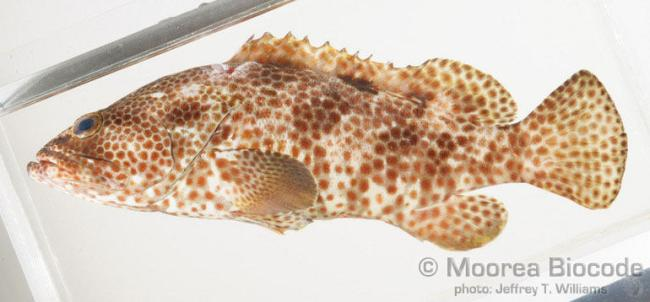fish: (25, 29, 628, 252)
